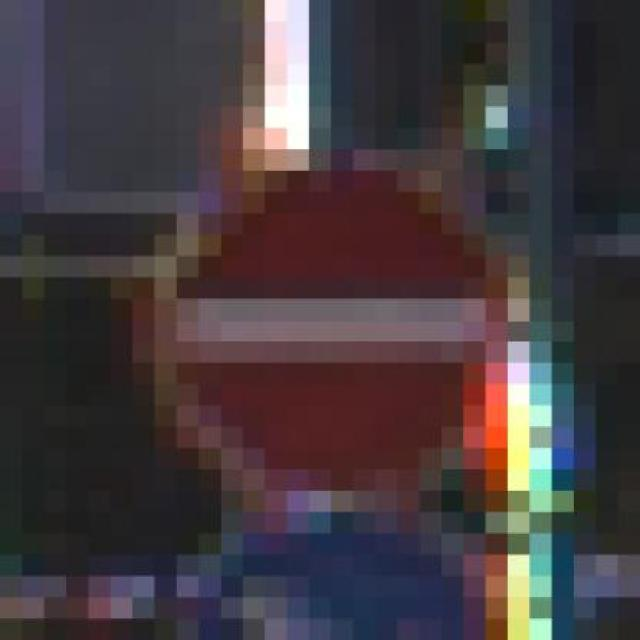B2: (152, 162, 502, 500)
